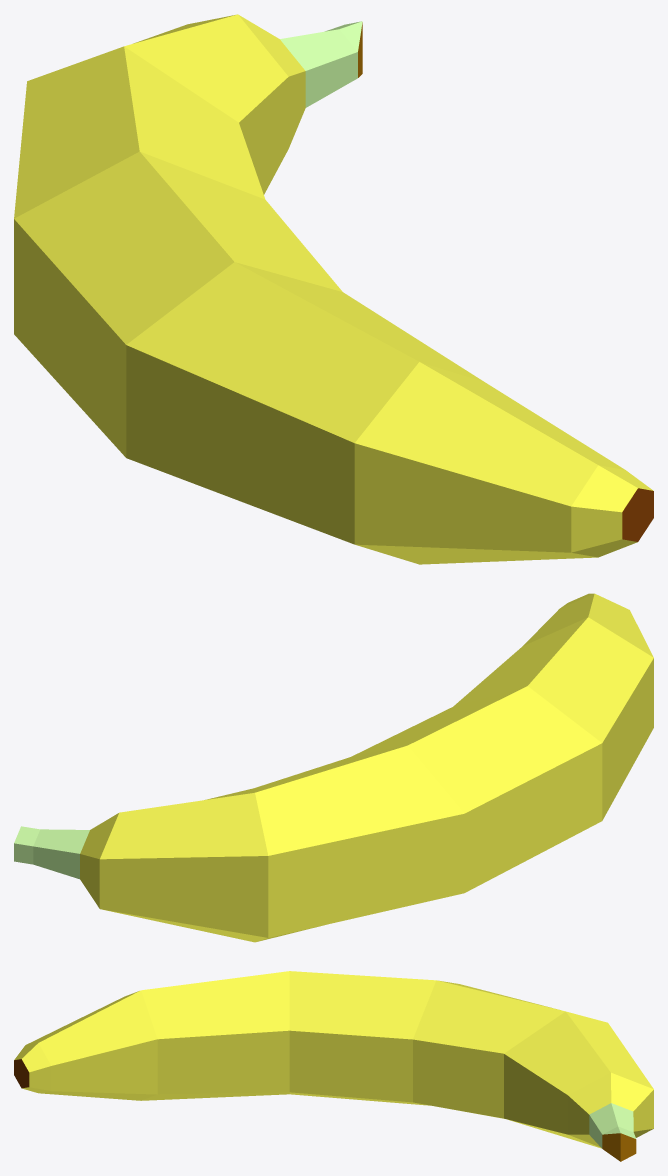
Rendered from banana01.obj.
The picture shows the model from 3 angles, top to bottom: view 1: azimuth 30°, elevation 25°; view 2: azimuth 150°, elevation 25°; view 3: azimuth 270°, elevation 25°; orthographic projection. The views are drawn at different scales.
Parts seen in each view (by area): view 1: Cylinder; view 2: Cylinder; view 3: Cylinder.
Part boxes in pixels (<box>): Cylinder: <box>14,14,653,564</box>; Cylinder: <box>14,593,653,942</box>; Cylinder: <box>14,971,653,1161</box>.
Size of the model in its own units: 0.1105 by 0.0451 by 0.208.
Materials: 1 (1 with a texture image).
